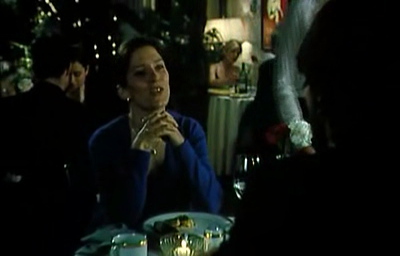face: (129, 54, 170, 108)
ms: (1, 1, 400, 256)
person: (89, 35, 222, 230)
